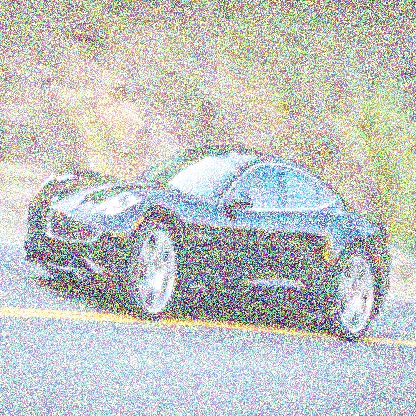Vehicle: (23, 143, 392, 343)
